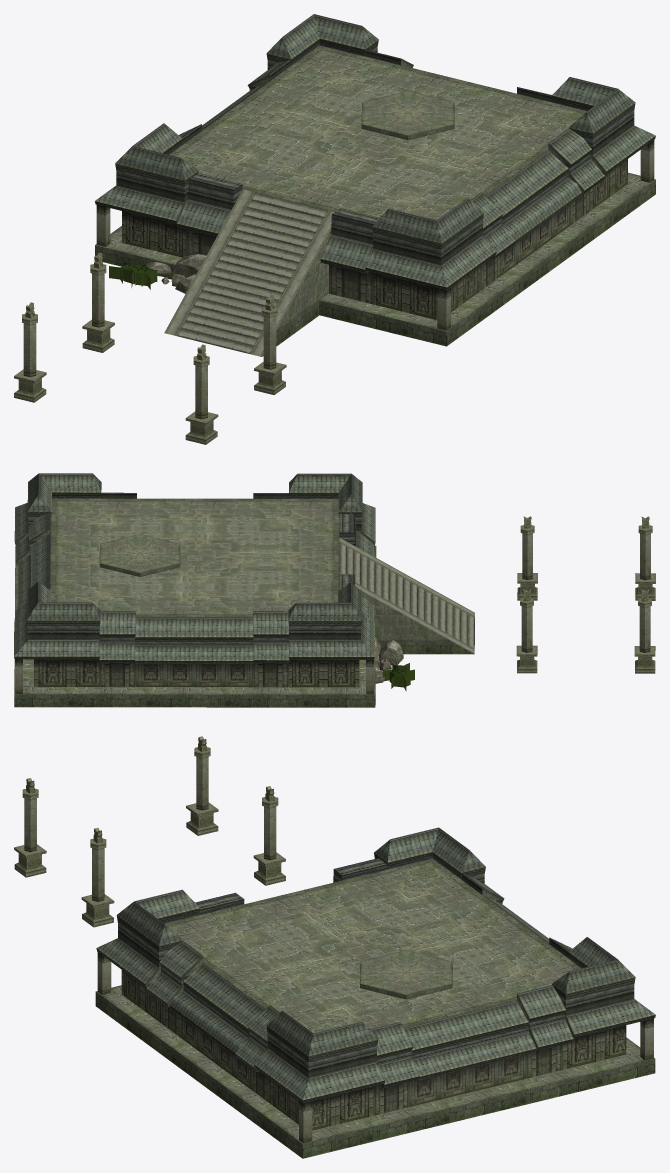
The model's file is new ruins.fbx.
The picture shows the model from 3 angles, top to bottom: view 1: azimuth 30°, elevation 25°; view 2: azimuth 150°, elevation 25°; view 3: azimuth 270°, elevation 25°; orthographic projection. The views are drawn at different scales.
Visible parts, largest first — view 1: Element Client-33ad3718.obj, Element Client-33d7cf18.obj, Element Client-33bbc2d0.obj, Element Client-33bb9f10.obj, Element Client-33c1ab38.obj, Element Client-33c349c0.obj, Element Client-33d67e40.obj, Element Client-33cfbf60.obj, Element Client-33cee490.obj, Element Client-33cf0850.obj; view 2: Element Client-33ad3718.obj, Element Client-33d7cf18.obj, Element Client-33bbc2d0.obj, Element Client-33bb9f10.obj, Element Client-33c1ab38.obj, Element Client-33cfbf60.obj, Element Client-33d67e40.obj, Element Client-33c349c0.obj, Element Client-33cee490.obj, Element Client-33cf0850.obj, Element Client-33cb1890.obj; view 3: Element Client-33ad3718.obj, Element Client-33d7cf18.obj, Element Client-33bb9f10.obj, Element Client-33c1ab38.obj, Element Client-33cfbf60.obj, Element Client-33c349c0.obj, Element Client-33d67e40.obj.
Part boxes in pixels (x1,y1,x2,y2): Element Client-33ad3718.obj: (95,45,655,356); Element Client-33d7cf18.obj: (95,14,655,290); Element Client-33bbc2d0.obj: (164,189,334,356); Element Client-33bb9f10.obj: (122,159,627,319); Element Client-33c1ab38.obj: (14,140,654,423); Element Client-33c349c0.obj: (14,58,606,444); Element Client-33d67e40.obj: (185,190,589,304); Element Client-33cfbf60.obj: (501,205,569,275); Element Client-33cee490.obj: (146,254,205,293); Element Client-33cf0850.obj: (109,261,157,289); Element Client-33ad3718.obj: (14,498,474,707); Element Client-33d7cf18.obj: (14,473,375,664); Element Client-33bbc2d0.obj: (339,538,474,653); Element Client-33bb9f10.obj: (34,659,359,687); Element Client-33c1ab38.obj: (15,525,655,694); Element Client-33cfbf60.obj: (136,664,251,687); Element Client-33d67e40.obj: (98,660,289,687); Element Client-33c349c0.obj: (15,527,655,673); Element Client-33cee490.obj: (374,637,403,683); Element Client-33cf0850.obj: (382,663,414,691); Element Client-33cb1890.obj: (523,516,649,601); Element Client-33ad3718.obj: (95,859,655,1158); Element Client-33d7cf18.obj: (96,827,655,1103); Element Client-33bb9f10.obj: (121,970,626,1130); Element Client-33c1ab38.obj: (14,747,653,1143); Element Client-33cfbf60.obj: (182,1018,525,1106); Element Client-33c349c0.obj: (14,806,573,1050); Element Client-33d67e40.obj: (162,1003,562,1115).
Bounding box in the file's own units: 70.31 × 10.69 × 56.7.
Materials: 13 (13 with a texture image).
